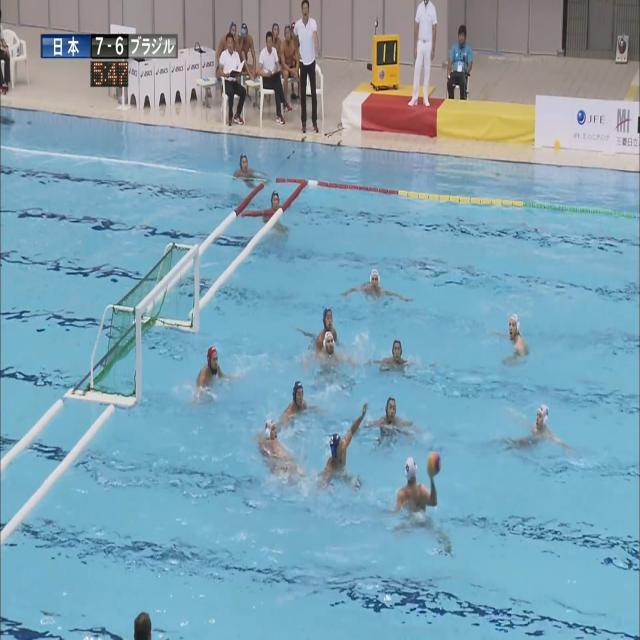ball: (428, 451, 440, 476)
